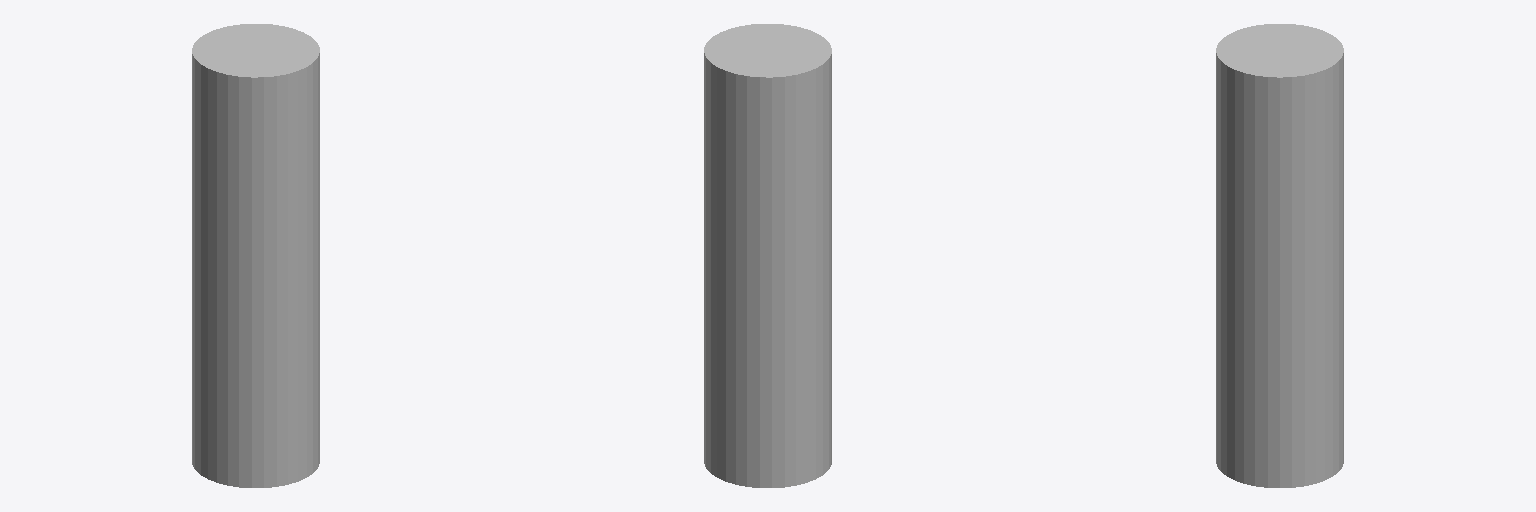
Rendered from Cyl2.1.obj.
The picture shows the model from 3 angles: view 1: azimuth 30°, elevation 25°; view 2: azimuth 150°, elevation 25°; view 3: azimuth 270°, elevation 25°; orthographic projection.
Visible parts, largest first — view 1: Cylinder.001; view 2: Cylinder.001; view 3: Cylinder.001.
Boxes of the visible parts, x1,y1,x2,y2 form: Cylinder.001: [192, 24, 319, 487]; Cylinder.001: [704, 24, 831, 487]; Cylinder.001: [1216, 24, 1343, 487].
Size of the model in its own units: 1.54 by 5.45 by 1.54.